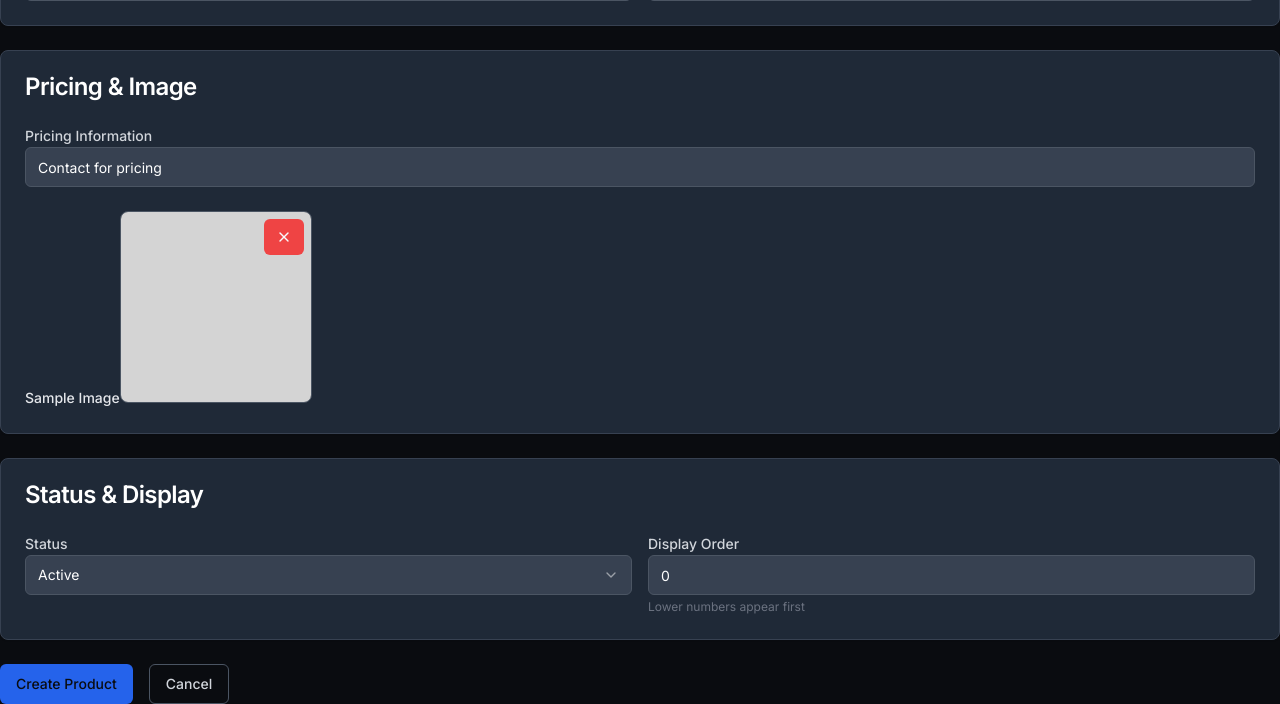
SatelliteProductForm › displays validation errors when submitting empty form
This screenshot has width=1280, height=704.
(page scrolled)
Click the button "Create Product" at (66, 684), box [0, 664, 133, 703]
(page scrolled)
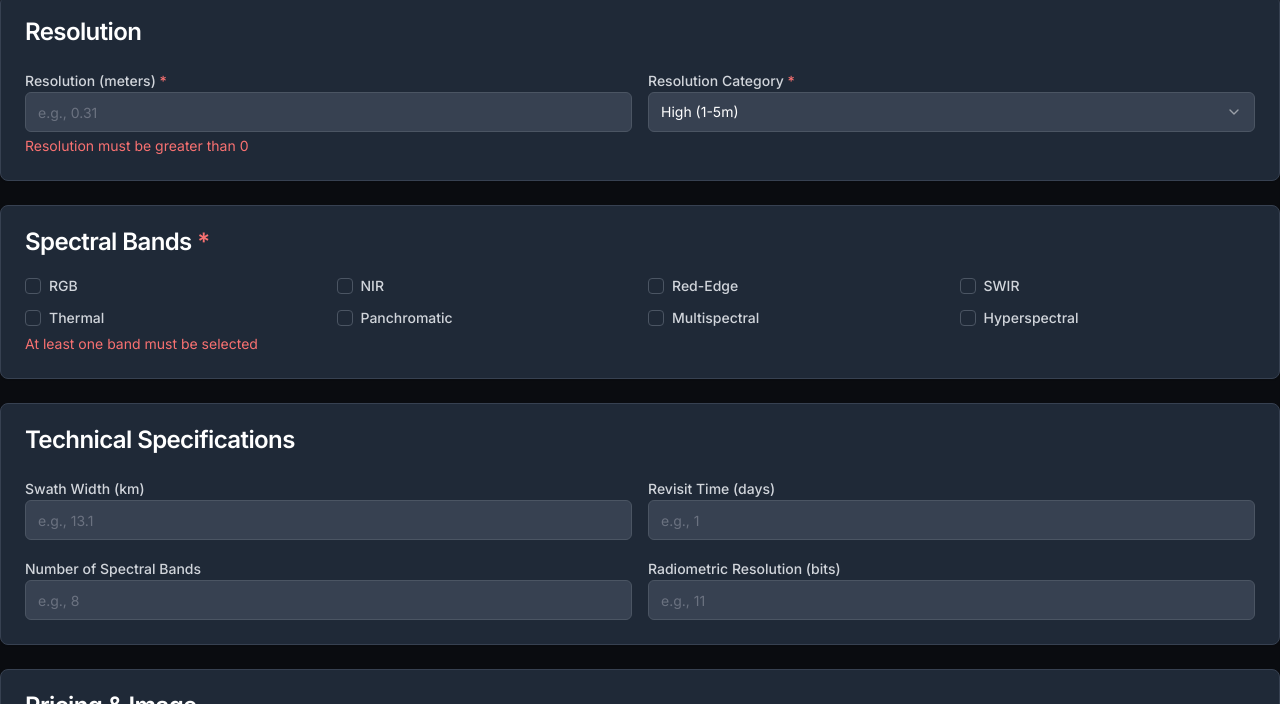
Check: the text "At least one band must be selected" is shown, box [25, 335, 258, 352]
